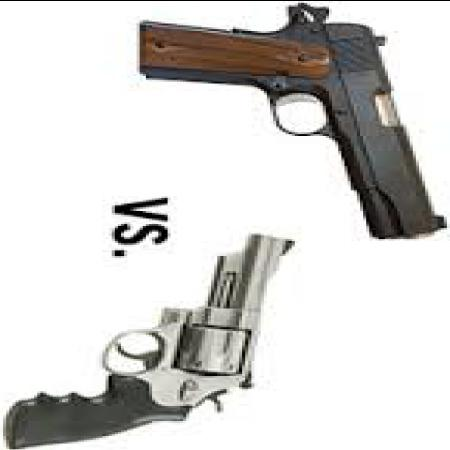Pistol: (3, 228, 307, 444)
